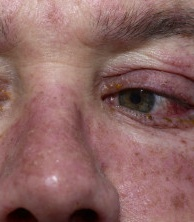SJS-TEN: (143, 89, 194, 140), (95, 65, 138, 109), (0, 78, 12, 126)
